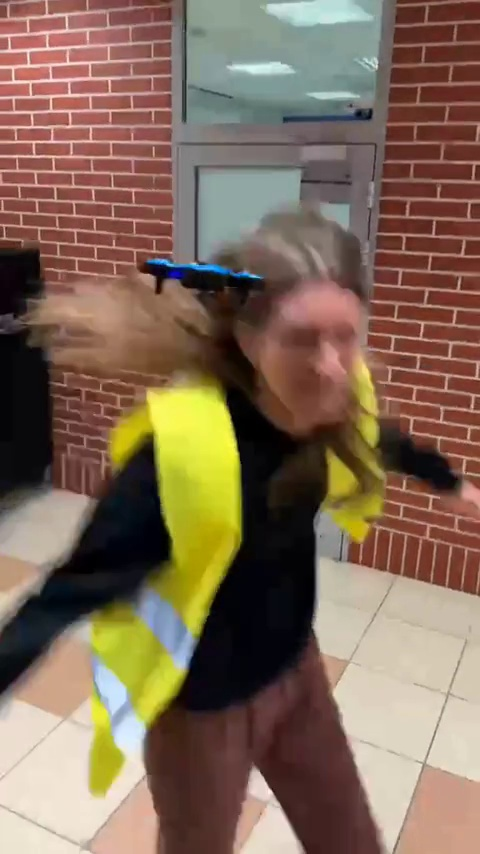drone: (141, 255, 262, 307)
vest: (110, 213, 412, 854)
